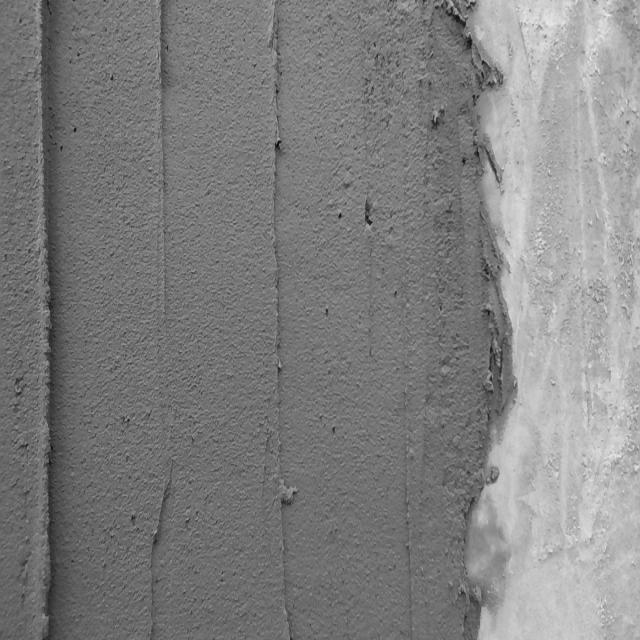trowels marks: (33, 2, 59, 640), (269, 9, 294, 640), (150, 1, 173, 326)
